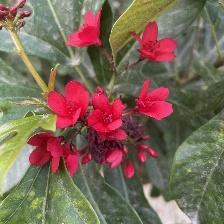jatropha: (129, 22, 180, 66), (48, 82, 90, 131), (137, 78, 176, 123), (89, 91, 126, 135)
